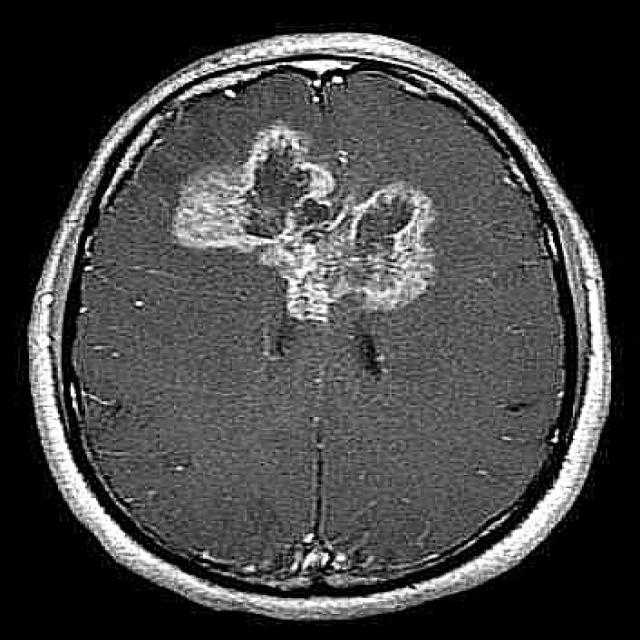Tumor-Cell: (167, 125, 486, 340)
